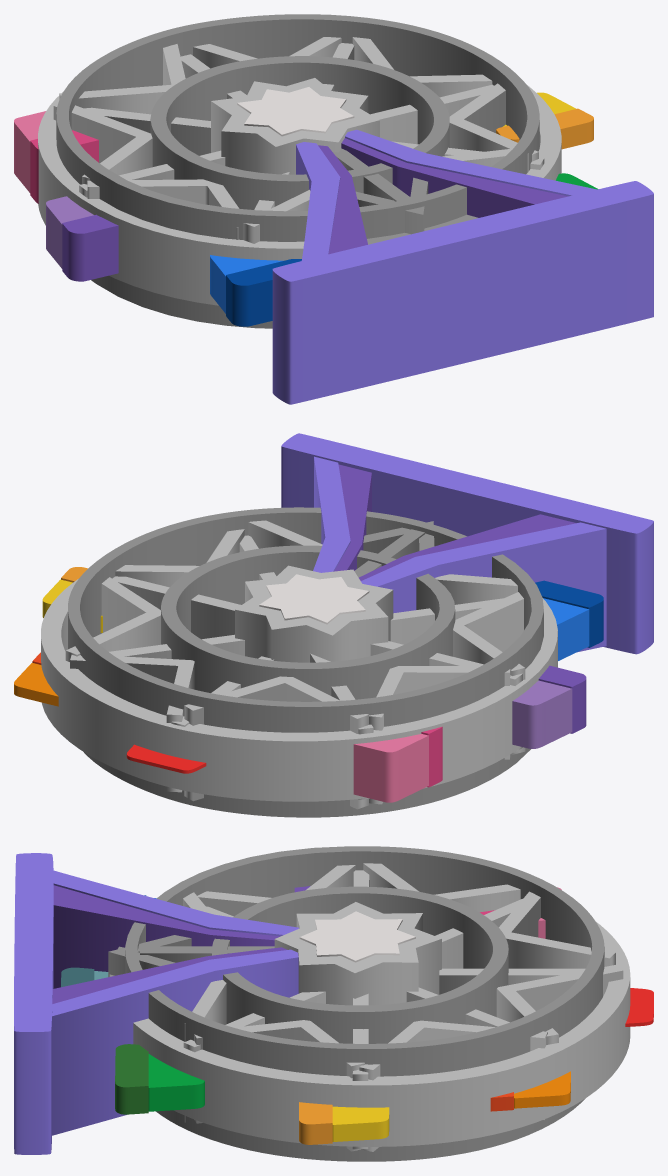
Rendered from emoji_u1f3a1.glb.
3 views of the same model, one above another, from view 1: azimuth 30°, elevation 25°; view 2: azimuth 150°, elevation 25°; view 3: azimuth 270°, elevation 25° (orthographic).
Visible parts, largest first — view 1: emoji_u1f3a1; view 2: emoji_u1f3a1; view 3: emoji_u1f3a1.
Part boxes in pixels (<box>): emoji_u1f3a1: <box>14,14,653,404</box>; emoji_u1f3a1: <box>14,433,653,817</box>; emoji_u1f3a1: <box>14,846,653,1161</box>.
Bounding box in the file's own units: 0.0321 × 0.0076 × 0.034.
